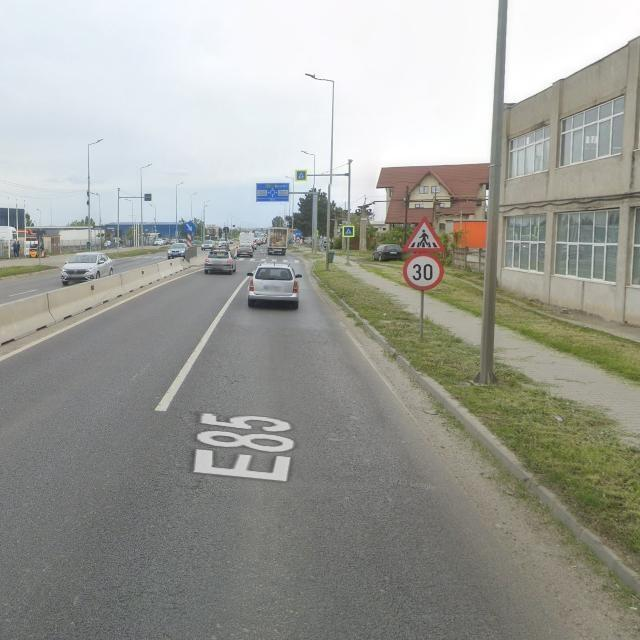forb_speed_over_30: (404, 256, 446, 291)
info_crosswalk: (341, 225, 354, 239), (297, 171, 308, 179)
warn_crosswalk: (405, 220, 444, 254)
